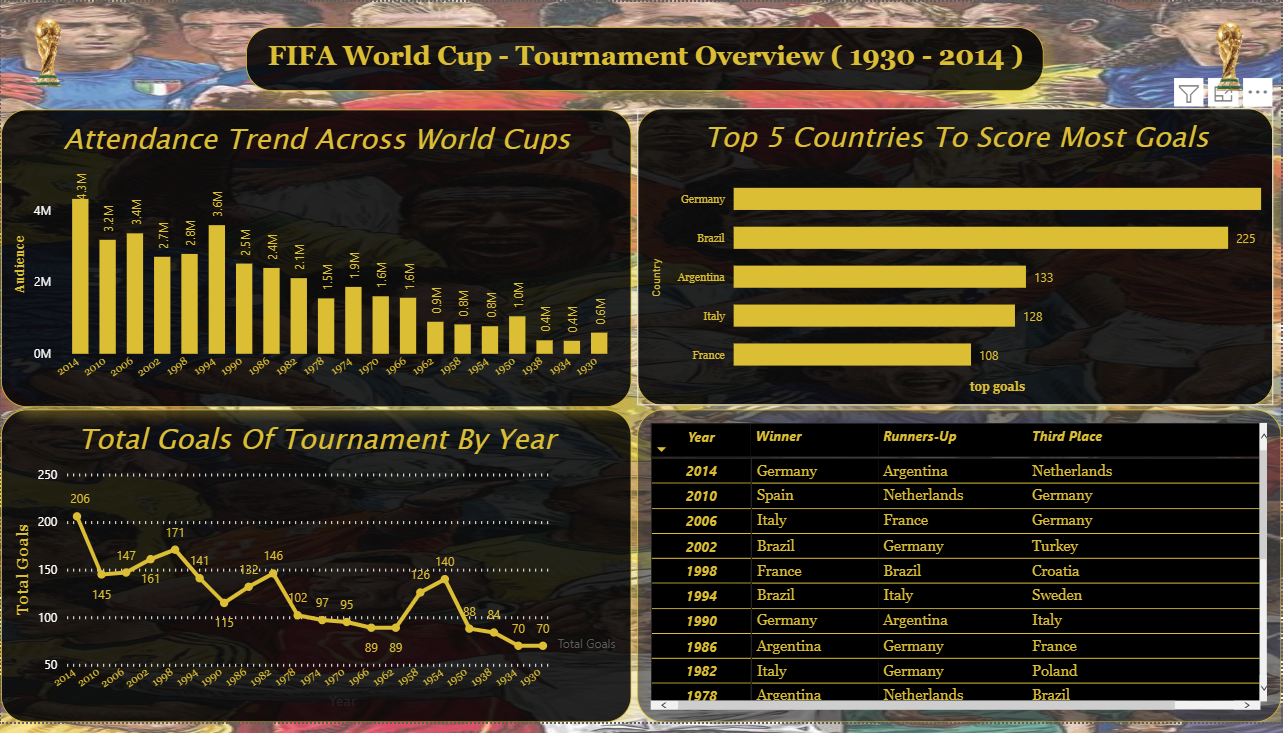

Layout of this report page (visuals, bound fields, positions):
{"tool":"powerbi","page":{"name":"Tournament Overview","canvas":[1280,720],"ordinal":0},"visuals":[{"type":"lineChart","title":"Total Goals Of Tournament By Year","fields":{"Category":["WorldCupMatches.Year"],"Y":["WorldCupMatches.Total Goals"]},"box":[0,407.5,630,312.5],"z":0},{"type":"columnChart","title":"Attendance Trend Across World Cups","fields":{"Y":["Sum(WorldCupMatches.Attendance)"],"Category":["WorldCupMatches.Year"]},"box":[0,107.5,630,297.5],"z":1000},{"type":"barChart","title":"Top 5 Countries To Score Most Goals ","fields":{"Category":["Total Golas.Country"],"Y":["Total Golas.top goals"]},"box":[636.2,106.2,636.2,297.5],"z":2000},{"type":"pivotTable","fields":{"Rows":["WorldCups.Year"],"Values":["Min(WorldCups.Winner)","Min(WorldCups.Runners-Up)","Min(WorldCups.Third)"]},"box":[636.2,407.5,643.8,312.5],"z":3000},{"type":"textbox","box":[245,25,797.5,63.8],"z":4000},{"type":"image","box":[0,0,95,108.8],"z":5000},{"type":"image","box":[1177.5,3.8,102.5,108.8],"z":6000}]}

Visuals, with their boxes in screenshot pixels (x1, y1, x2, y2), scaled from the page's 1280x720 canvas onto the 1283x733 screenshot:
"Total Goals Of Tournament By Year" lineChart: x1=0 y1=415 x2=631 y2=732
"Attendance Trend Across World Cups" columnChart: x1=0 y1=109 x2=631 y2=412
"Top 5 Countries To Score Most Goals " barChart: x1=638 y1=108 x2=1275 y2=411
pivotTable - WorldCups.Year x Min(WorldCups.Winner): x1=638 y1=415 x2=1282 y2=732
textbox: x1=246 y1=25 x2=1045 y2=90
image: x1=0 y1=0 x2=95 y2=111
image: x1=1180 y1=4 x2=1282 y2=115
